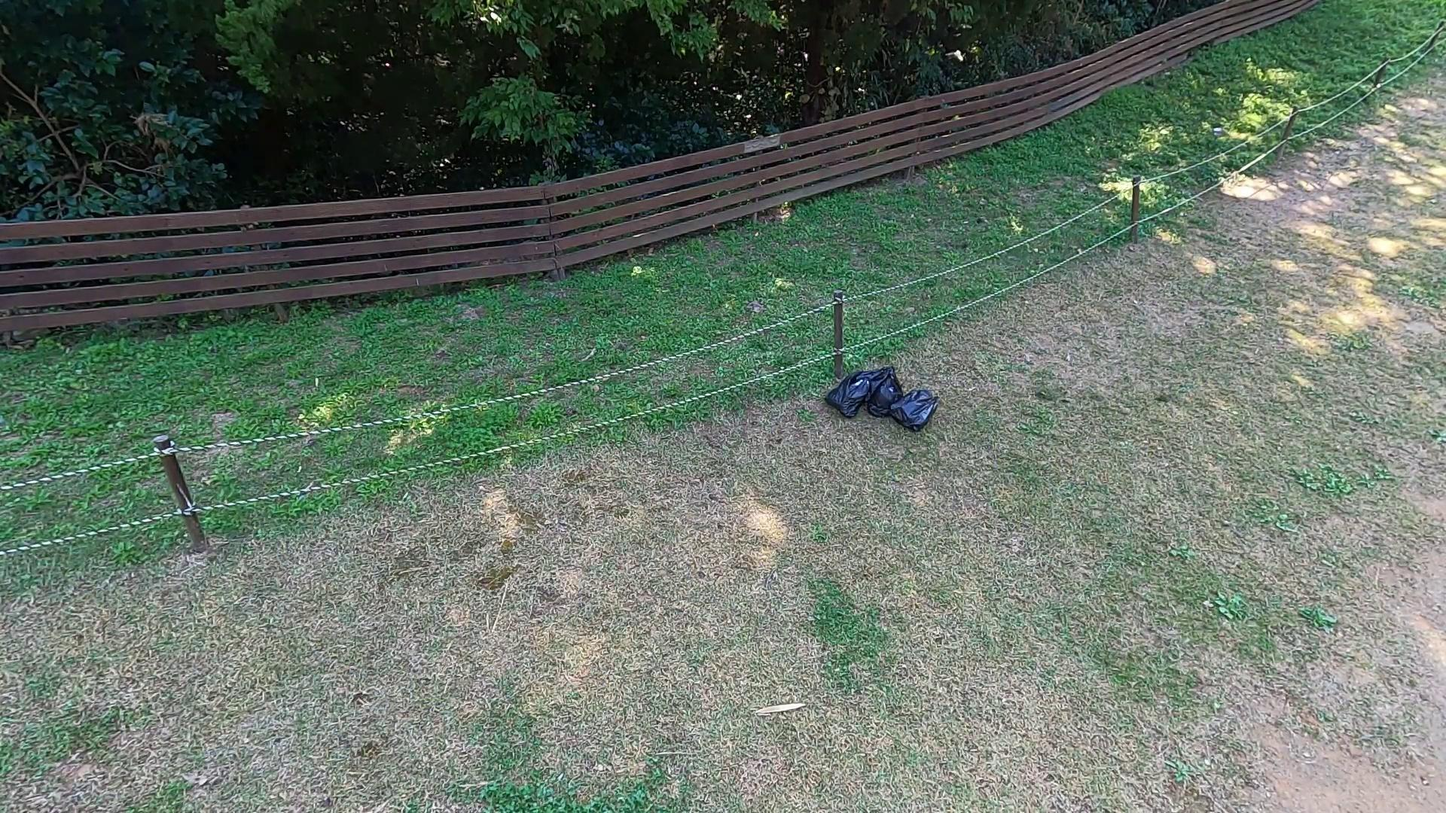trash: (889, 386, 941, 434), (825, 370, 872, 419), (867, 365, 905, 418)
